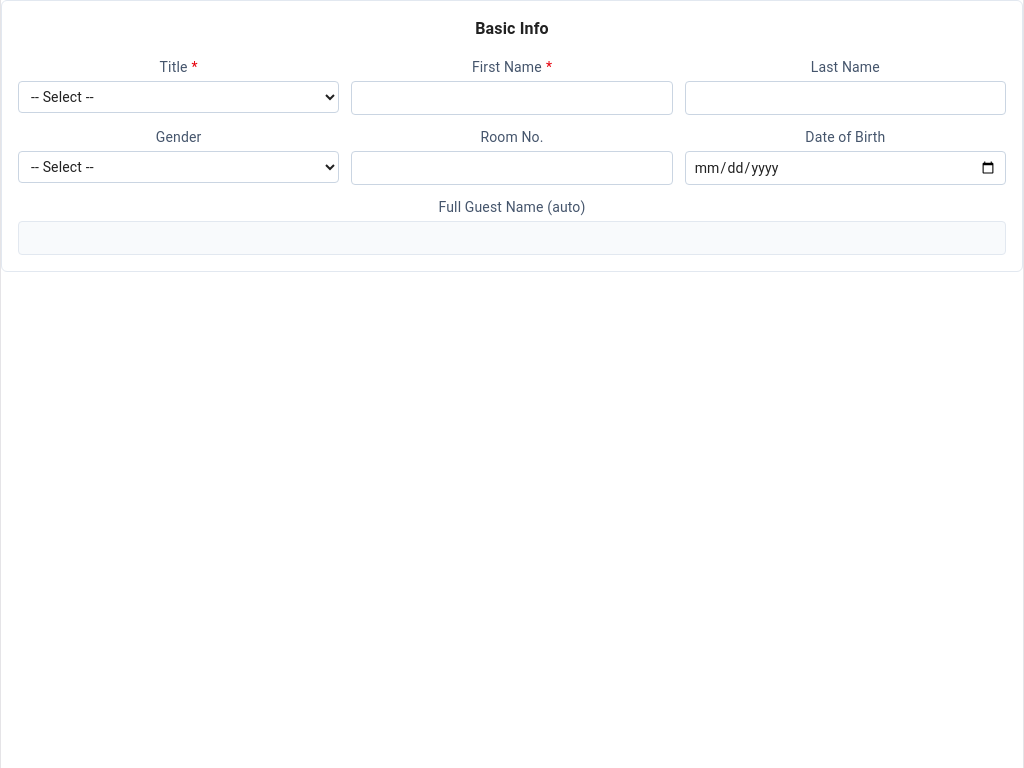
Scenario: GuestBasicSection › Full Guest Name updates reactively as Title + First + Last are typed
Select "MR" in the dropdown with test id "guest-title" at (179, 97), box [18,81,339,113]
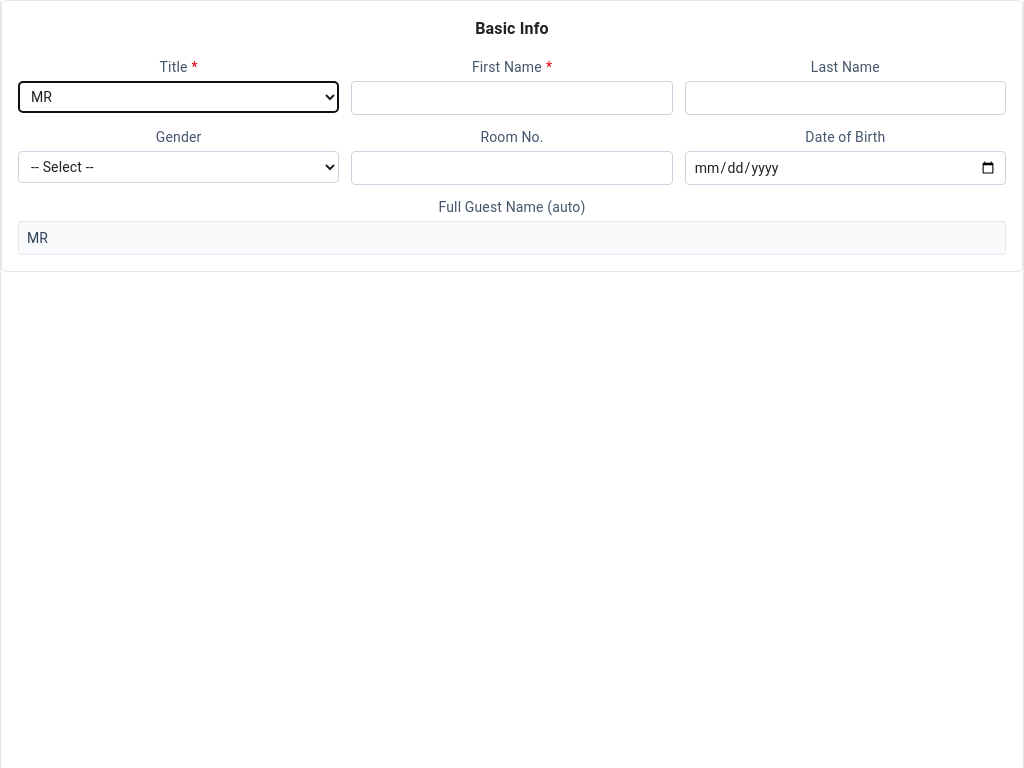
Type "Arif" into the field with test id "guest-first-name" at (512, 98), box [351,81,673,115]
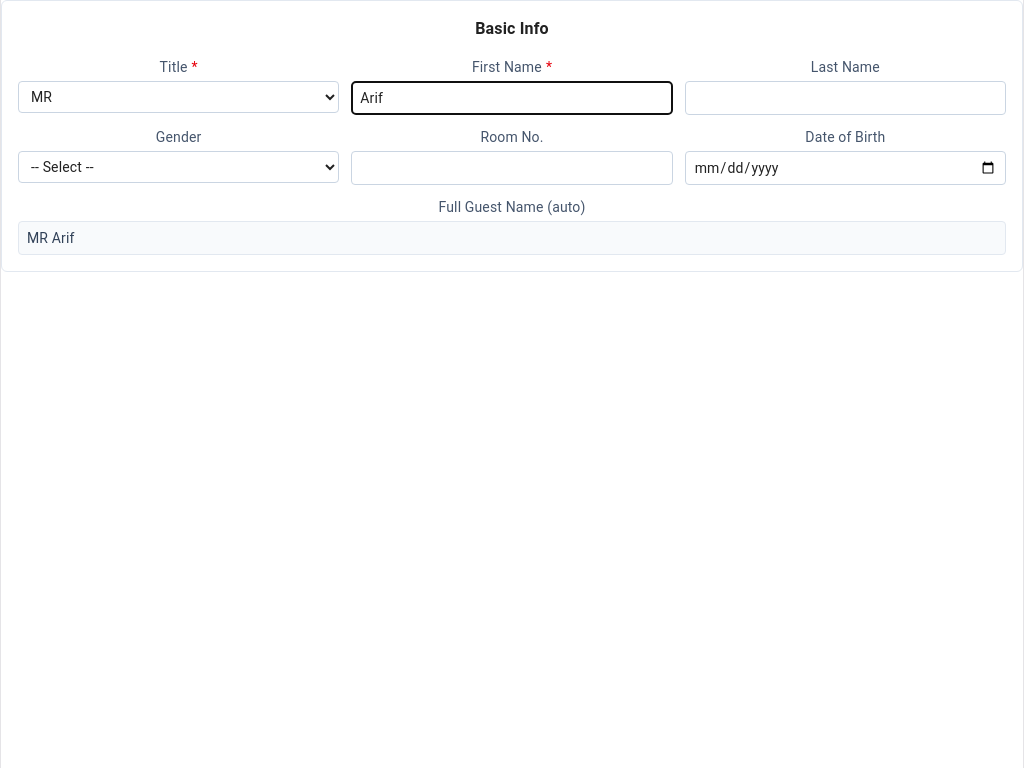
Type "Ahmed" into the field with test id "guest-last-name" at (845, 98), box [685,81,1006,115]
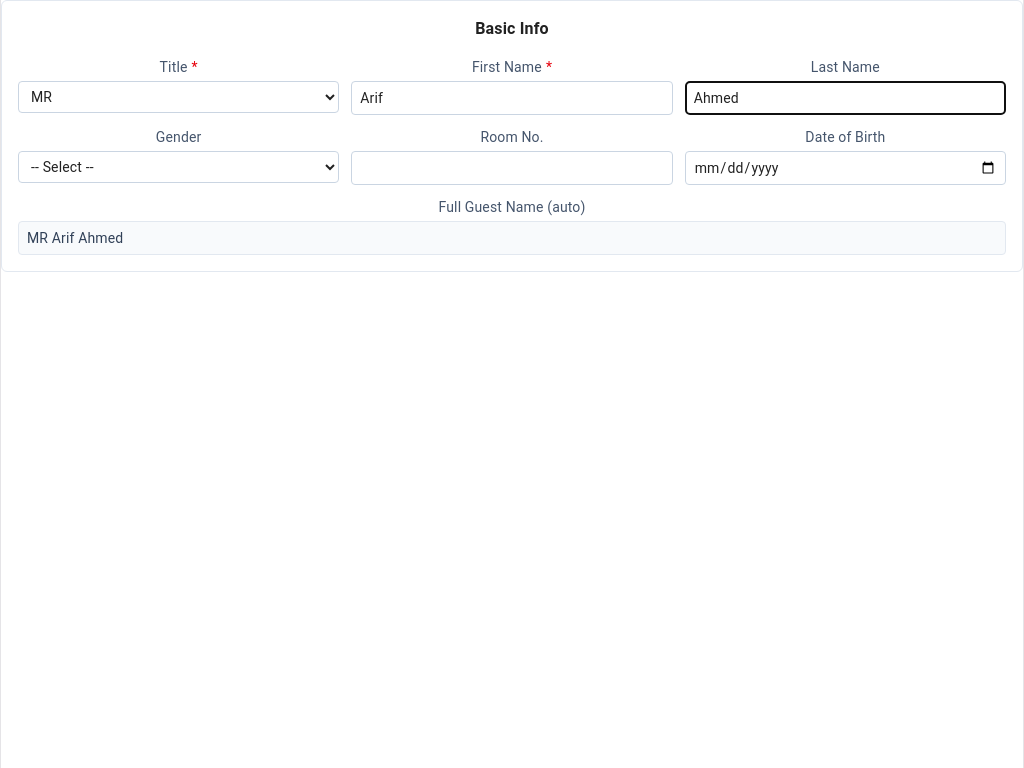
Now the field with test id "guest-full-name" holds "MR Arif Ahmed", box [18,221,1006,255]
